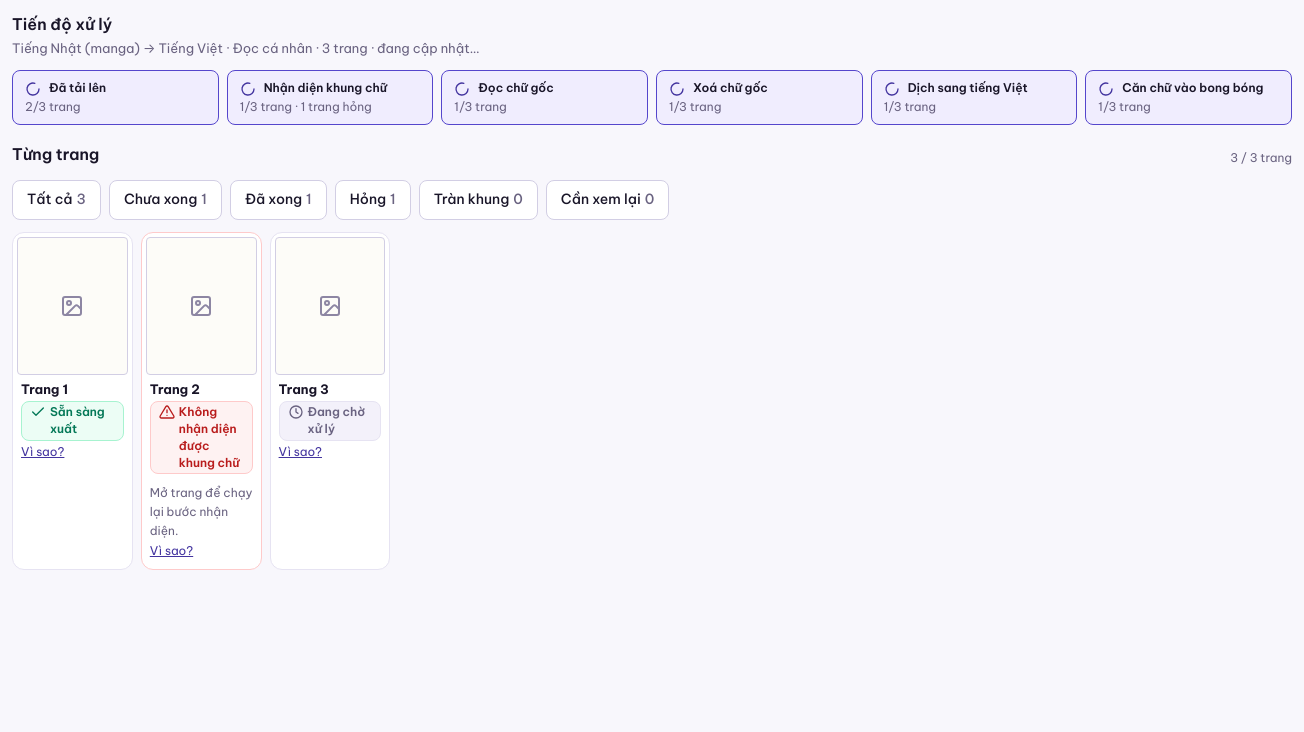
Scenario: ChapterProgress — lưới trang + chip lọc › lọc "Hỏng" chỉ còn trang hỏng; chip cho biết số trang; có thanh các bước
Expected: the list named "Các bước xử lý" is shown, [12,70,1292,129]
Click the button "Hỏng 1" at (373, 200), box [335,180,411,220]
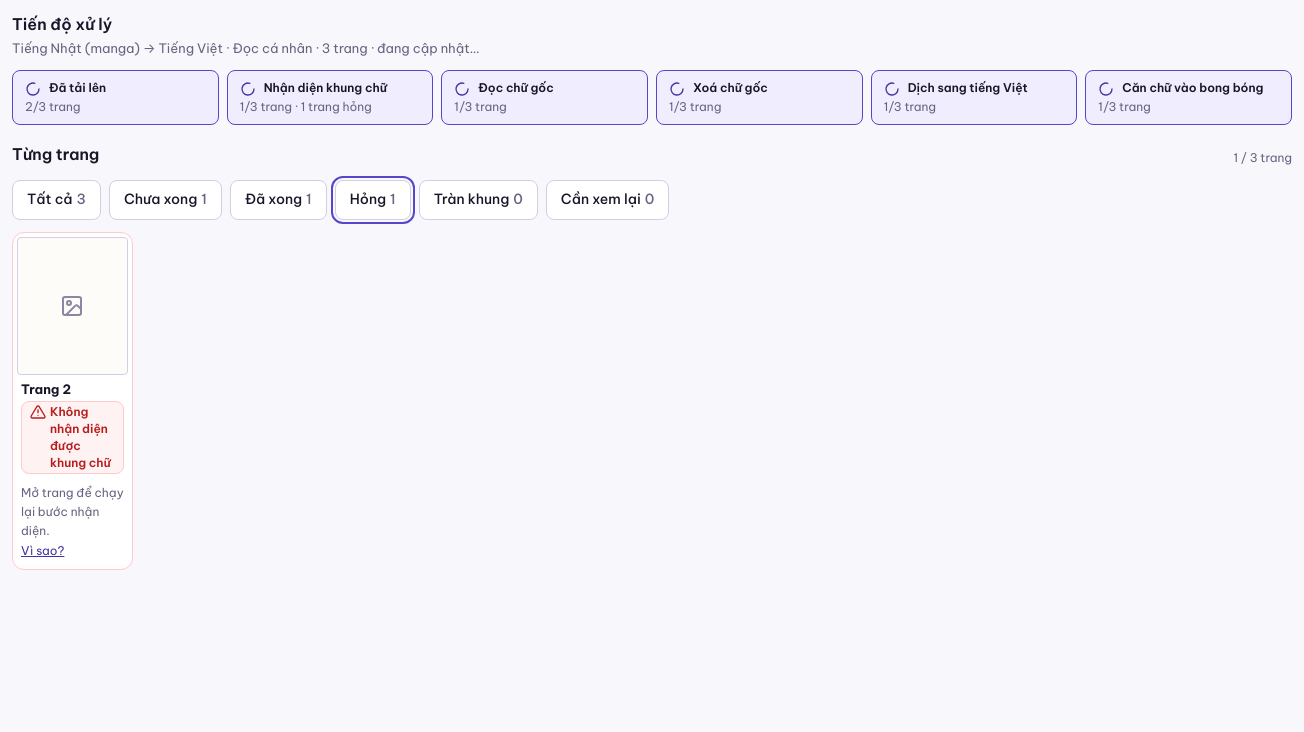
Expected: the link "Trang 2" is shown, [21,379,71,399]
Now the text "1 / 3 trang" is shown, box [1234,149,1292,168]
